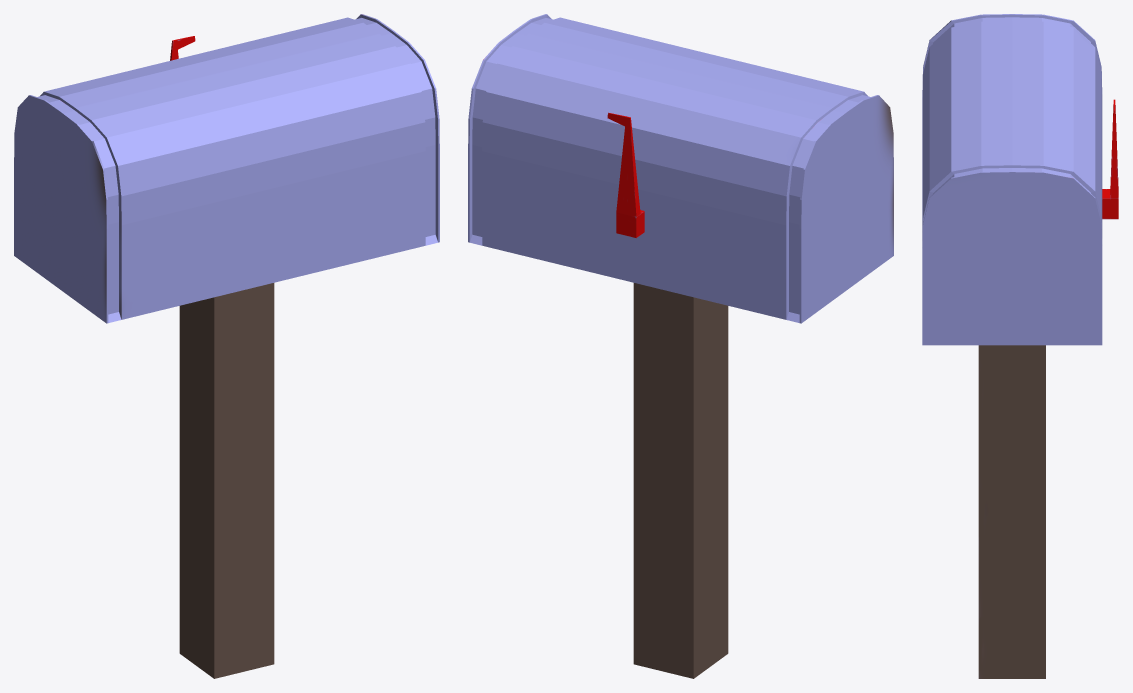
File: mail.fbx
3 views of the same model, side by side, from view 1: azimuth 30°, elevation 25°; view 2: azimuth 150°, elevation 25°; view 3: azimuth 270°, elevation 25° (orthographic). The views are drawn at different scales.
Visible parts, largest first — view 1: Plane; view 2: Plane; view 3: Plane.
Part boxes in pixels (x1=…): Plane: x1=14, y1=14, x2=439, y2=678; Plane: x1=468, y1=14, x2=893, y2=678; Plane: x1=922, y1=14, x2=1118, y2=678.
Size of the model in its own units: 416 by 701 by 218.
1 material, 1 textured.
